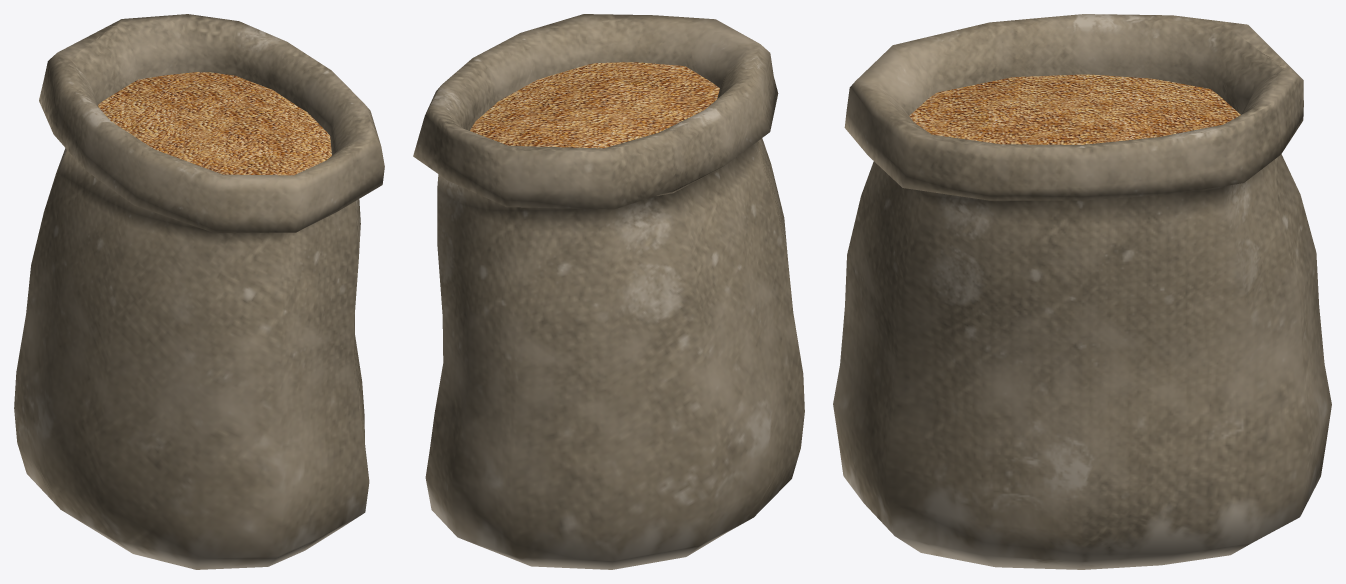
The model's file is seed_sack.glb.
3 renders of one model, left to right at view 1: azimuth 30°, elevation 25°; view 2: azimuth 150°, elevation 25°; view 3: azimuth 270°, elevation 25°, orthographic. The views are drawn at different scales.
Visible parts, largest first — view 1: Sack2_Sack2_0; view 2: Sack2_Sack2_0; view 3: Sack2_Sack2_0.
Boxes of the visible parts, x1,y1,x2,y2 form: Sack2_Sack2_0: (14,14,384,569); Sack2_Sack2_0: (413,14,804,569); Sack2_Sack2_0: (833,14,1331,569).
Bounding box in the file's own units: 1.02 × 1.36 × 1.33.
Materials: 2 (2 with a texture image).
